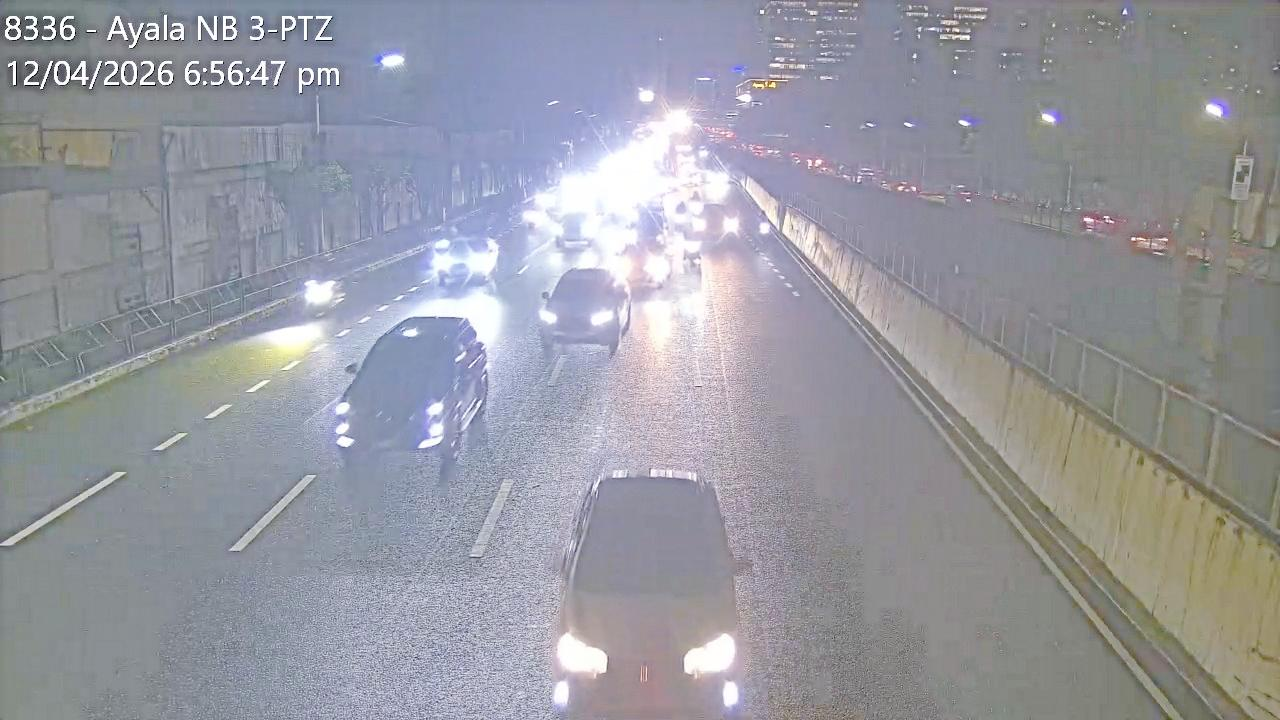Car: (551, 467, 751, 713), (328, 314, 489, 461), (536, 266, 631, 356), (432, 234, 500, 292), (616, 233, 672, 290), (692, 200, 737, 248), (552, 208, 598, 250)
Motor: (296, 254, 346, 320)
Not Accident: (294, 259, 484, 462), (536, 208, 670, 356)
